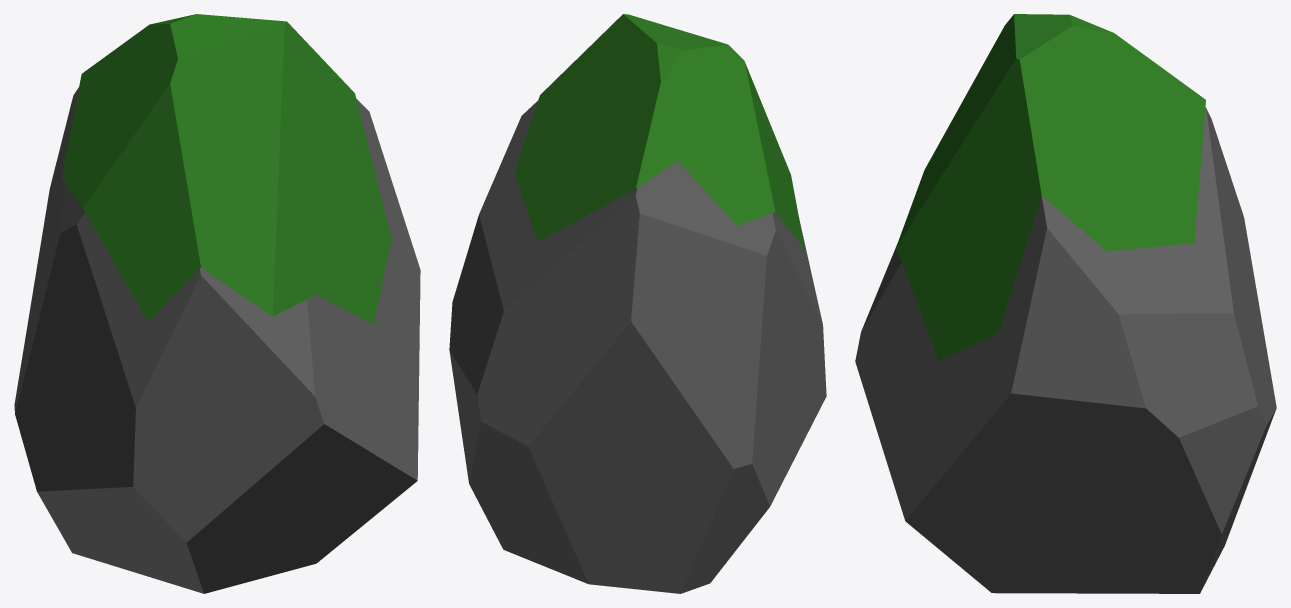
Rendered from MossyRock3.fbx.
3 views of the same model, side by side, from view 1: azimuth 30°, elevation 25°; view 2: azimuth 150°, elevation 25°; view 3: azimuth 270°, elevation 25° (orthographic). The views are drawn at different scales.
Visible parts, largest first — view 1: Sphere, Sphere.001; view 2: Sphere, Sphere.001; view 3: Sphere, Sphere.001.
Part boxes in pixels (x1=…): Sphere: x1=14, y1=87, x2=420, y2=593; Sphere.001: x1=62, y1=14, x2=391, y2=324; Sphere: x1=449, y1=101, x2=826, y2=593; Sphere.001: x1=514, y1=14, x2=804, y2=249; Sphere: x1=855, y1=107, x2=1276, y2=593; Sphere.001: x1=895, y1=14, x2=1205, y2=361.
Bounding box in the file's own units: 265 × 413 × 294.
